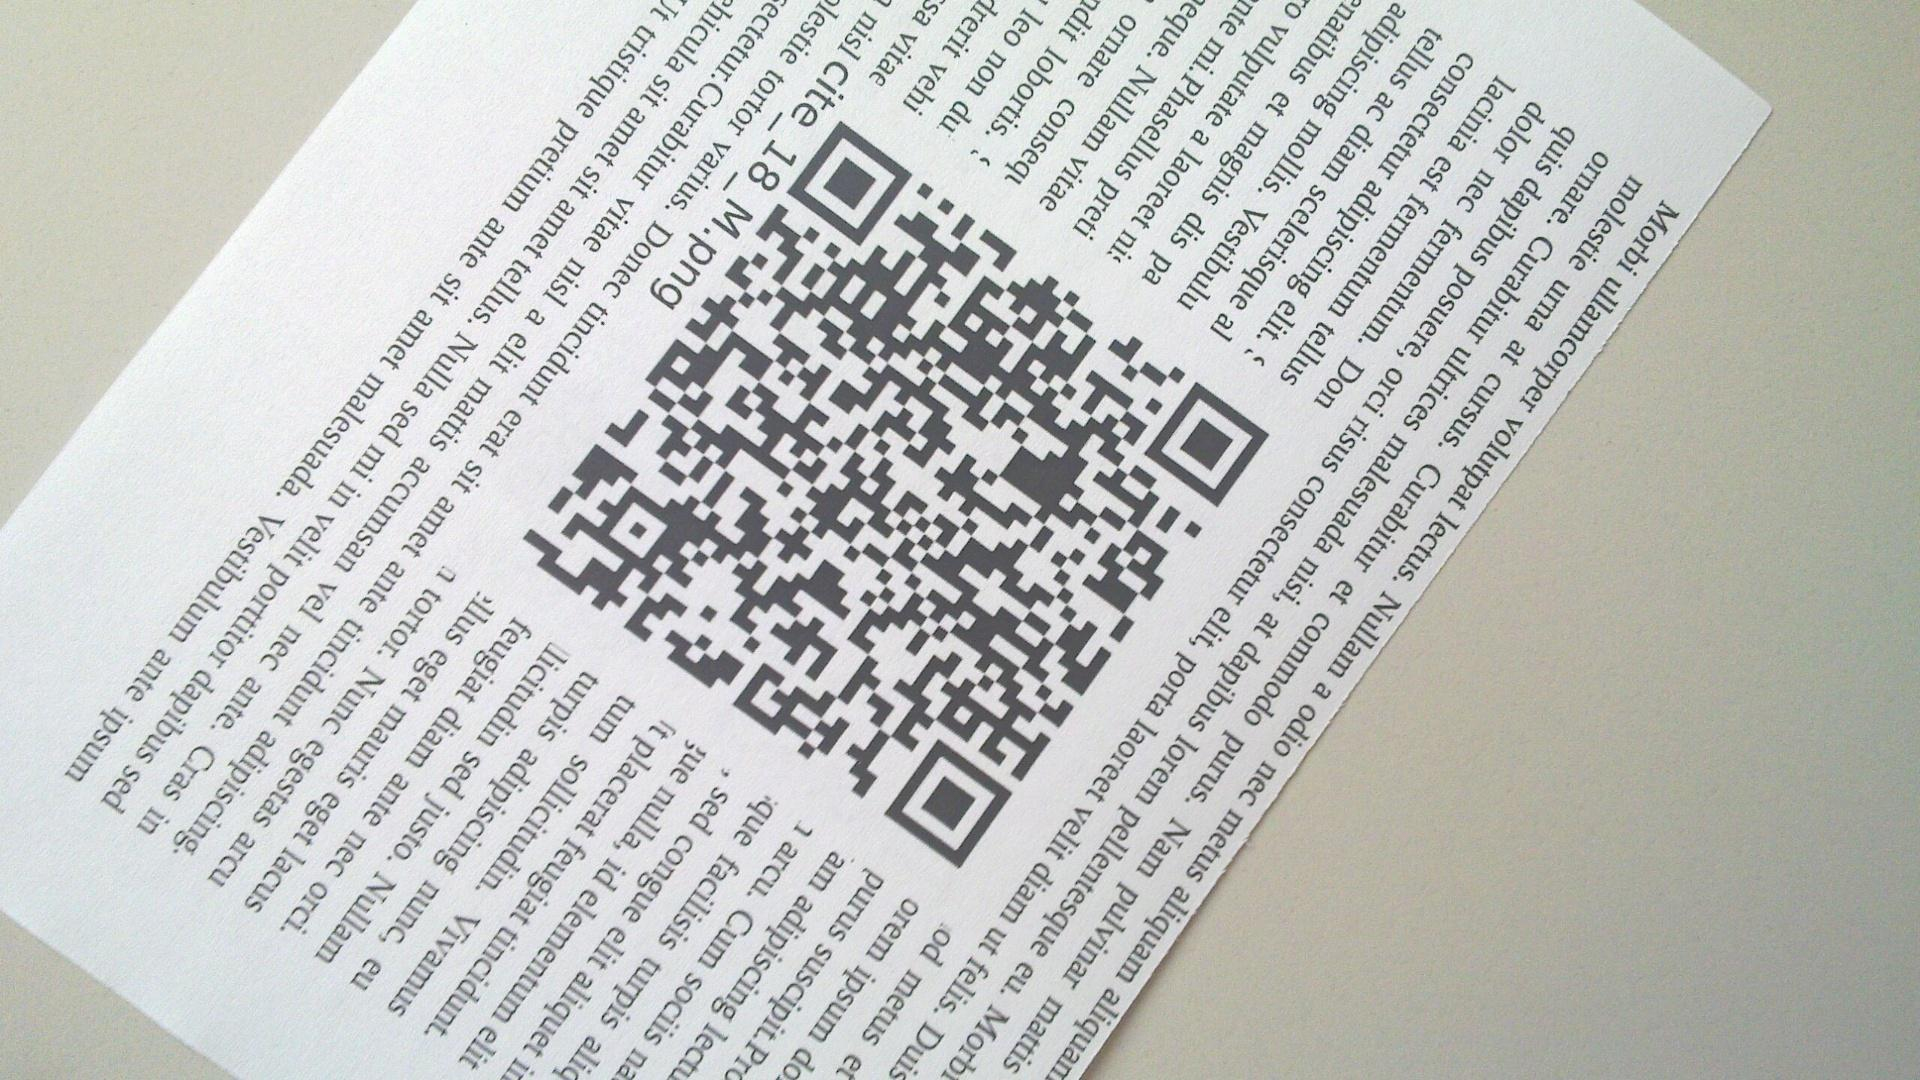Finder pattern: (876, 727, 1013, 868), (787, 119, 915, 249), (1154, 378, 1269, 502)
